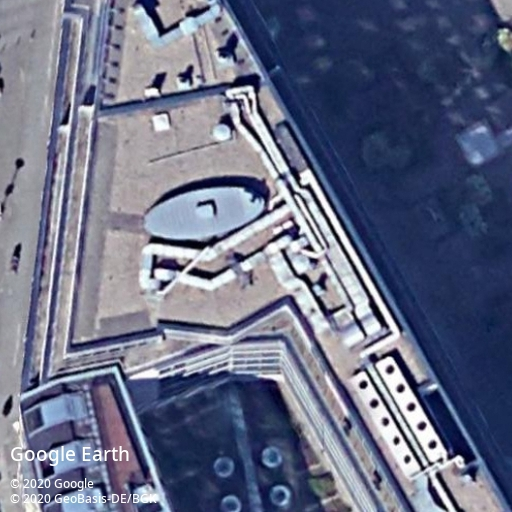Chiller: (373, 356, 451, 466), (351, 370, 423, 477)
